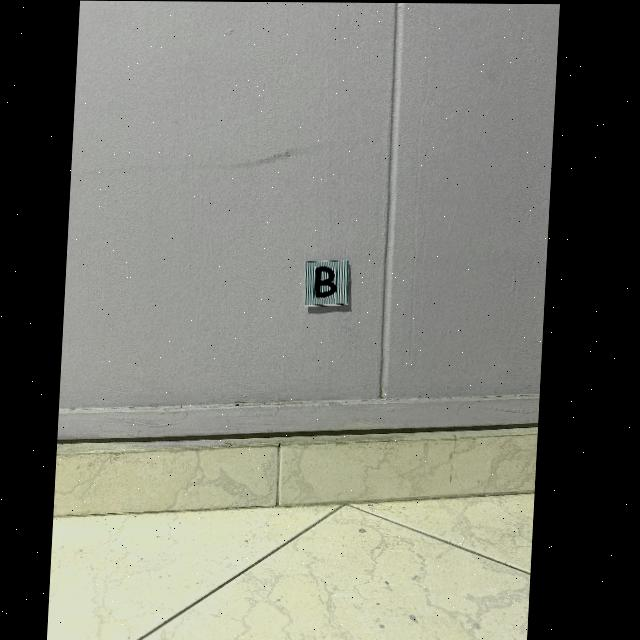B: (319, 267, 339, 298)
